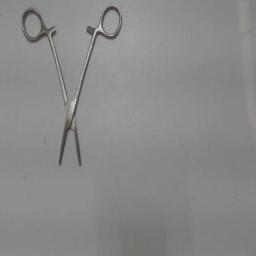Mayo Needle Holder: (17, 2, 125, 172)
